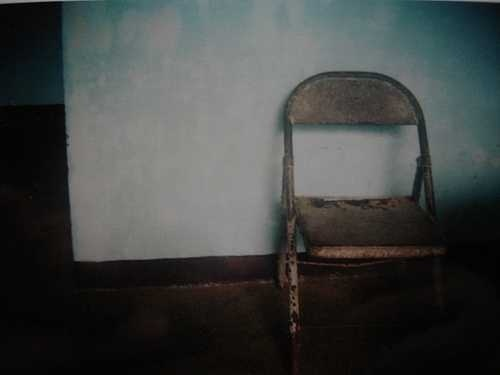obstacle: (282, 72, 445, 372)
